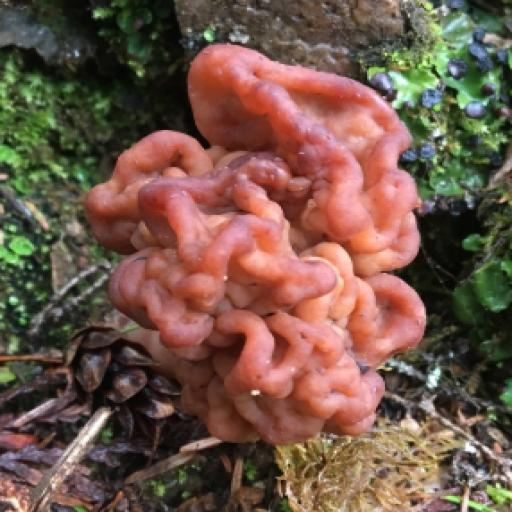False Morel: (49, 0, 511, 468)
